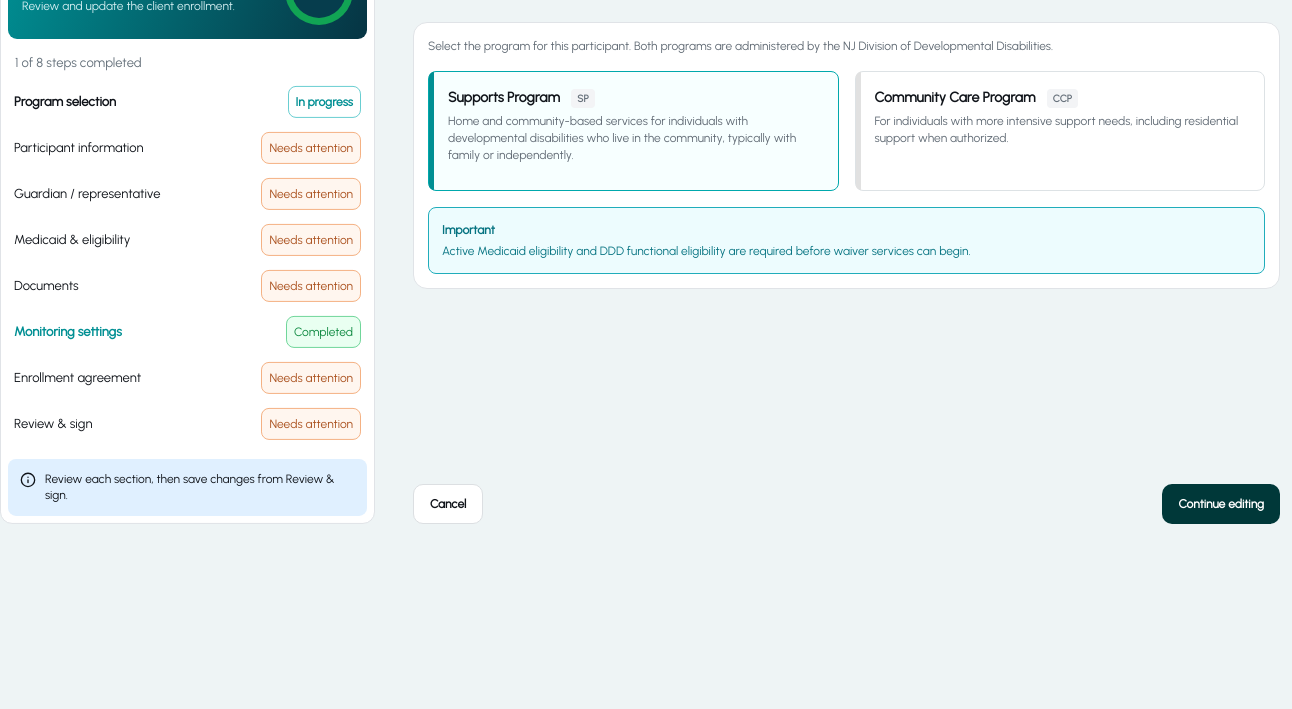
imported originals appear with detected categories and unknown dates, and removing one retains autofill
Earlier steps of the test are not shown.
Click the button "Continue editing" at [1221, 504], box x1=1162 y1=484 x2=1280 y2=524
(page scrolled)
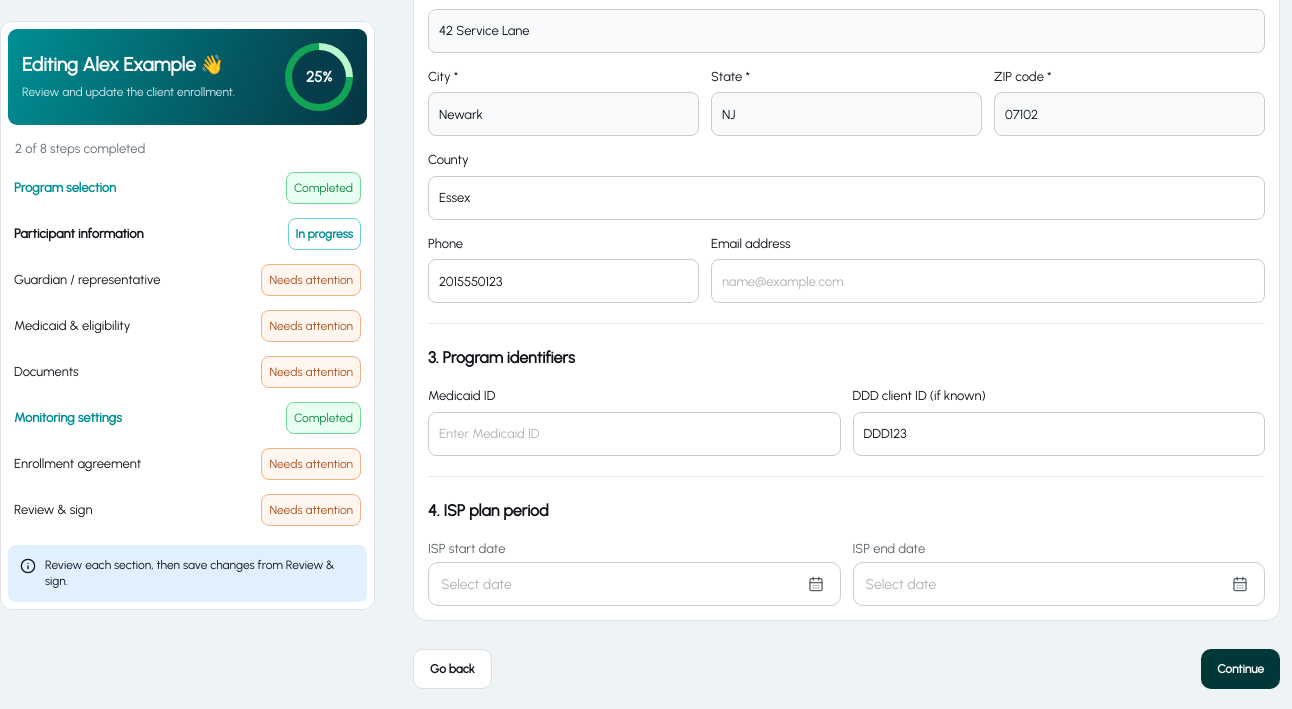
Click the button "Continue" at [1241, 669], box x1=1201 y1=649 x2=1280 y2=689
(page scrolled)
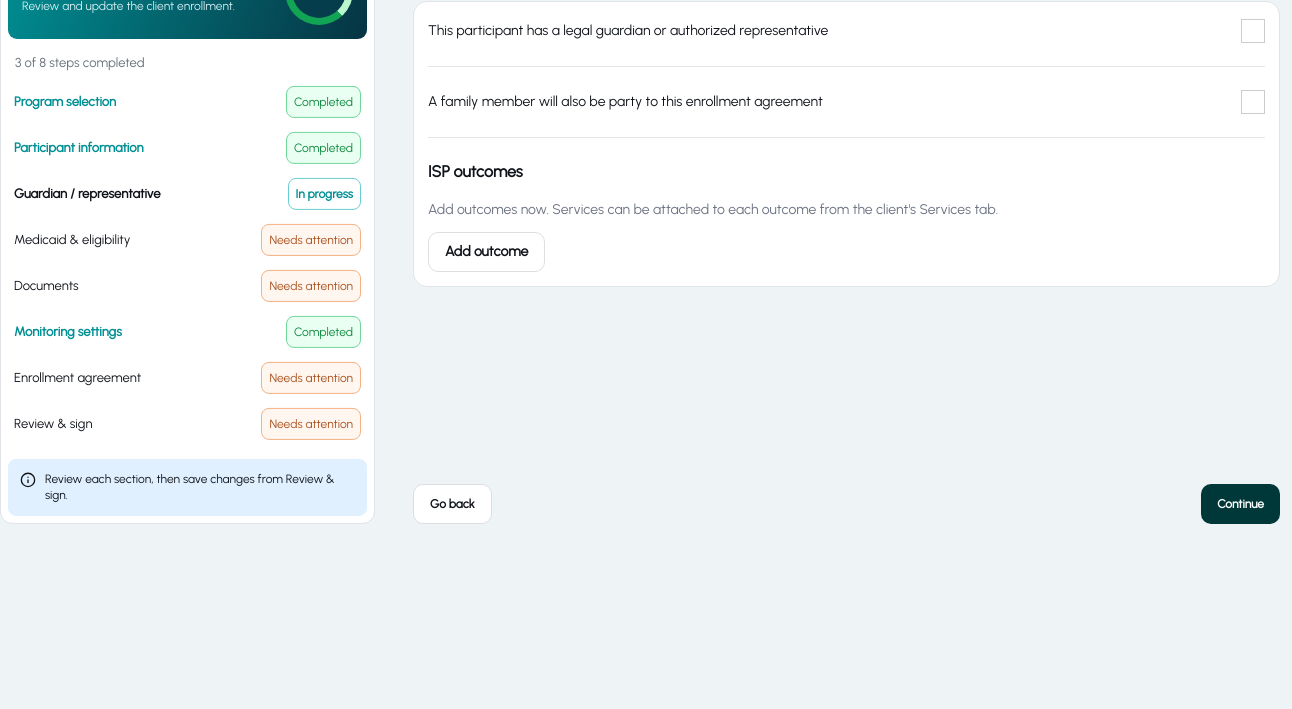
Click the button "Continue" at [1241, 504], box x1=1201 y1=484 x2=1280 y2=524
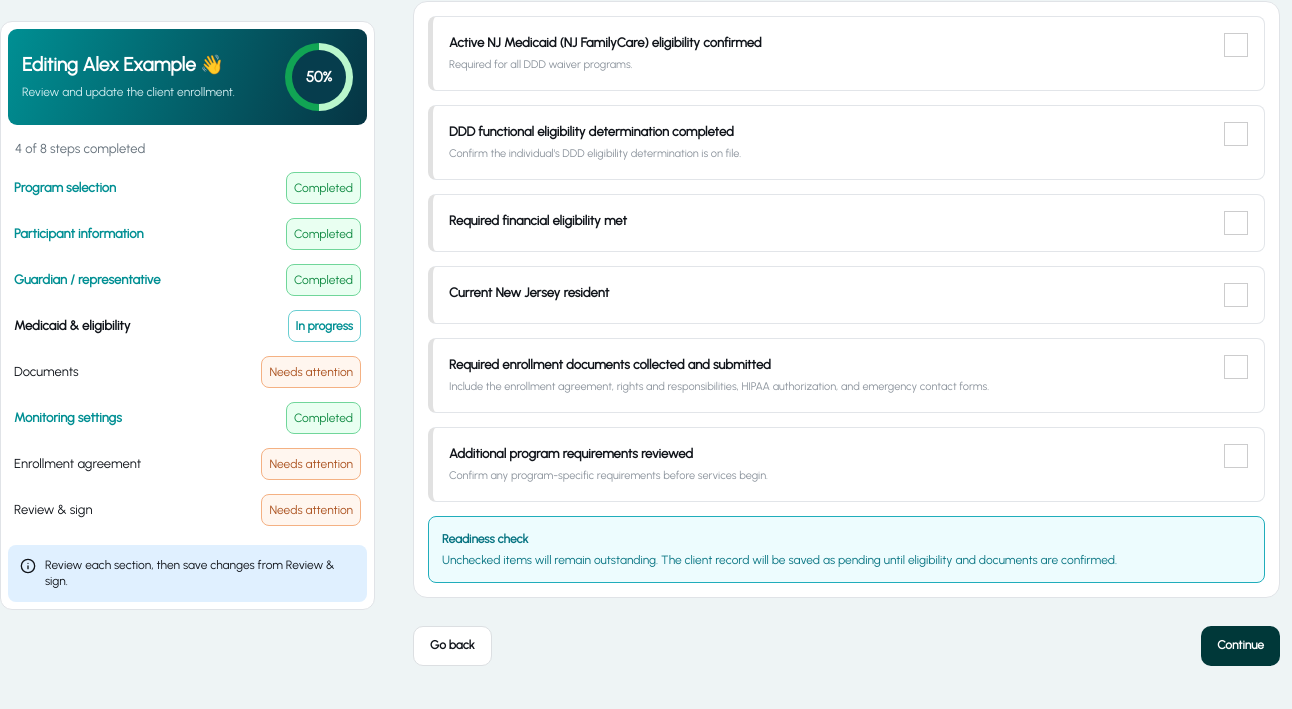
Click the button "Continue" at [1241, 646], box x1=1201 y1=626 x2=1280 y2=666
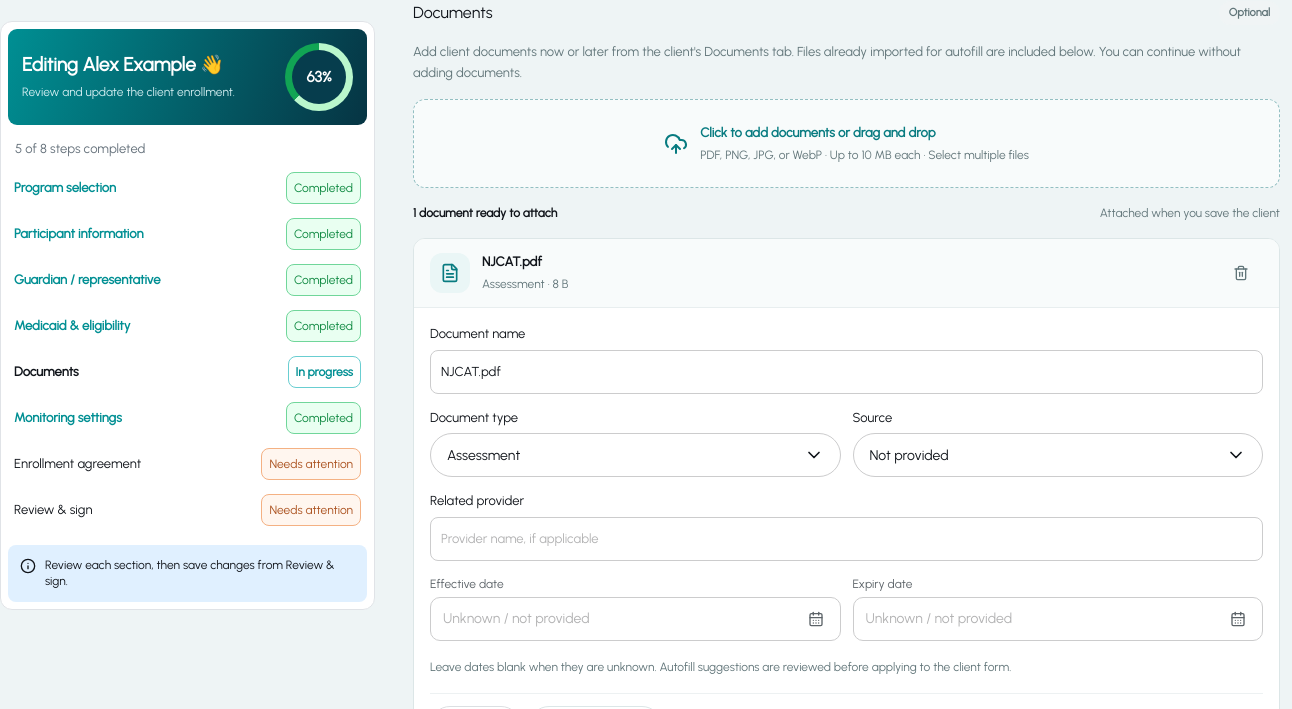
Now the dropdown named "Document type" reads "Assessment", box x1=430 y1=433 x2=840 y2=477
Now the field with placeholder "Unknown / not provided" below "Effective date" is empty, box x1=443 y1=597 x2=796 y2=641
Now the field with placeholder "Unknown / not provided" below "Expiry date" is empty, box x1=866 y1=597 x2=1218 y2=641
Click the button named "Remove NJCAT.pdf attachment" at [1241, 273], box x1=1219 y1=251 x2=1263 y2=295
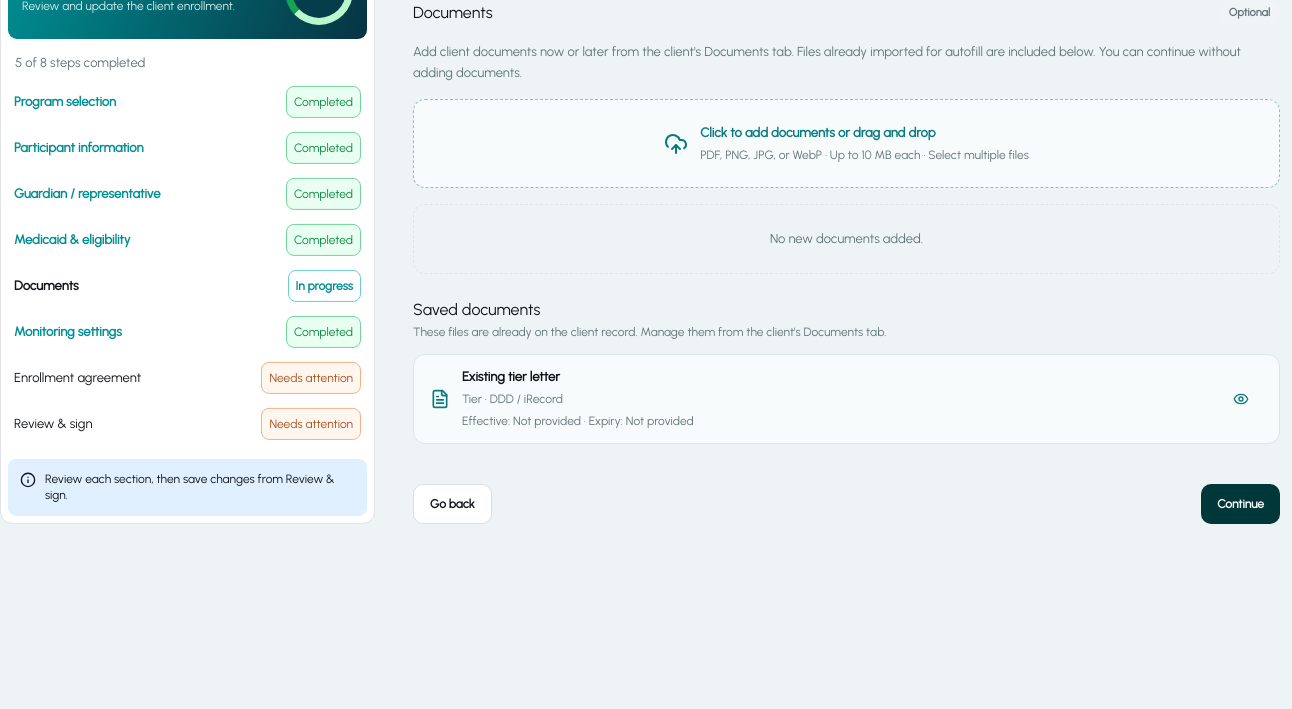
Expected: the element "NJCAT.pdf document" is not shown
Click the button "Participant information Completed" at [79, 147], box x1=8 y1=124 x2=367 y2=170
(page scrolled)
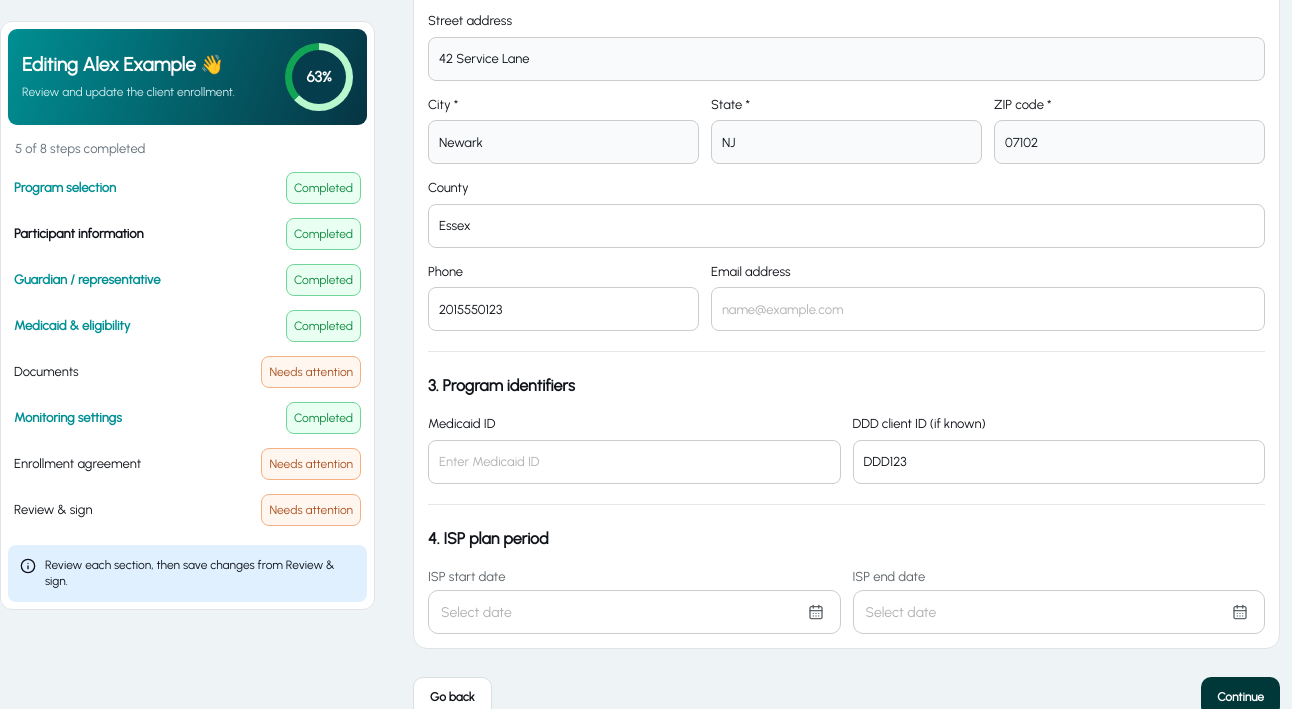
Now the field labelled "DDD client ID (if known)" holds "DDD123", box x1=852 y1=440 x2=1265 y2=484
Now the field labelled "Phone" holds "2015550123", box x1=428 y1=287 x2=699 y2=331
